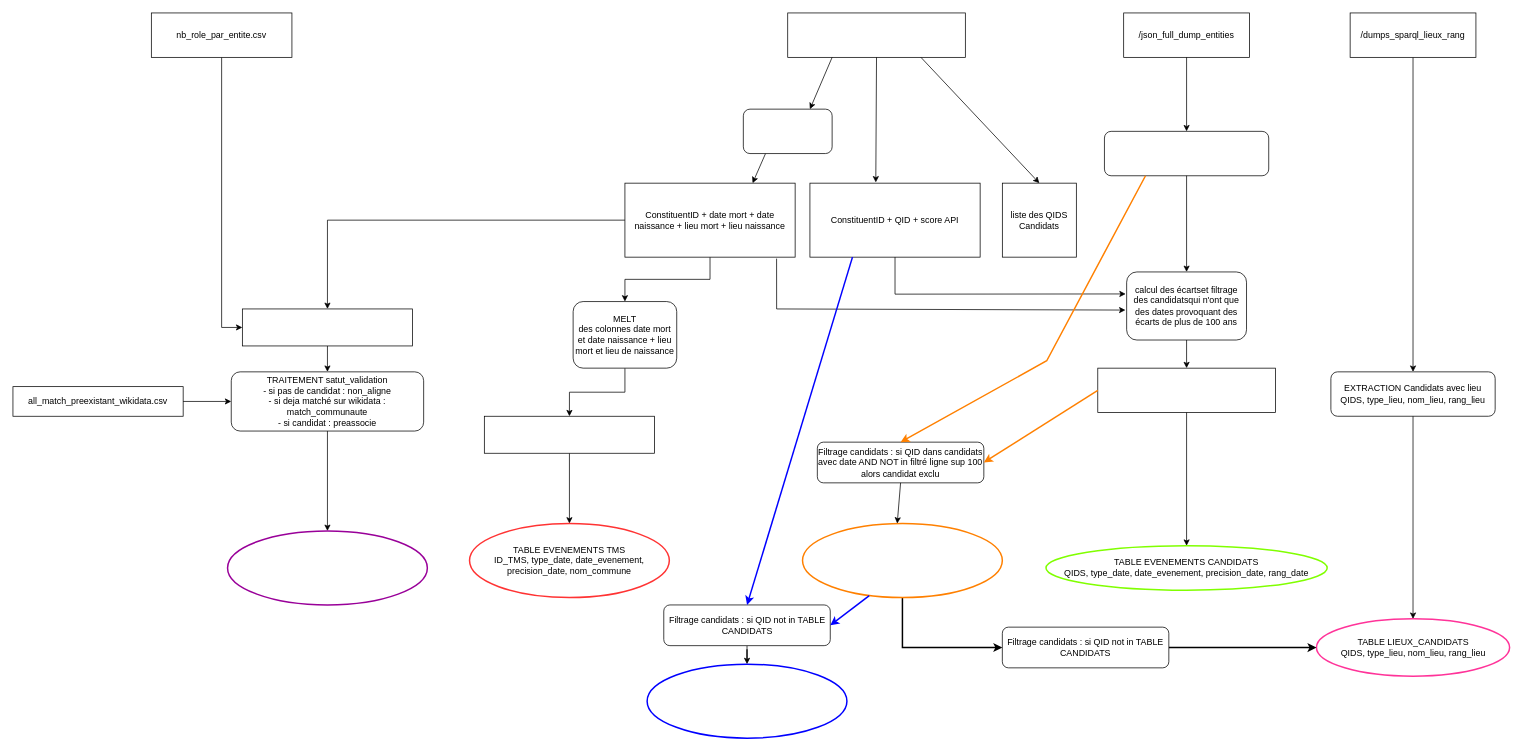
Some shapes in this 1523 by 752 pixel diagram are drawn without their labels. Here are the shapes that lost their labels. From the top down, the centre of each, then its label:
At point 876,34: "Alignements_sans_error_complet.csv".
At point 787,131: "Nettoyage des dates".
At point 1186,153: "EXTRACTION Candidats avec date QIDS, type date, date, precision, rang".
At point 327,327: "ConstituentID, nb_roles_creation".
At point 1186,390: "(filtré lignes sup100 ans) QIDS, type date, date, precision, rang".
At point 569,434: "ConstituentID, type_date, date_evenement, precision_date, nom_commune".
At point 327,567: "TABLE TMS ID_TMS, nb_roles_creation, statut_validation".
At point 902,560: "TABLE CANDIDATS QIDS, nb_id_externes".
At point 746,701: "TABLE RELATIONS TMS/CANDIDATS ID_TMS, QID, score_API".
